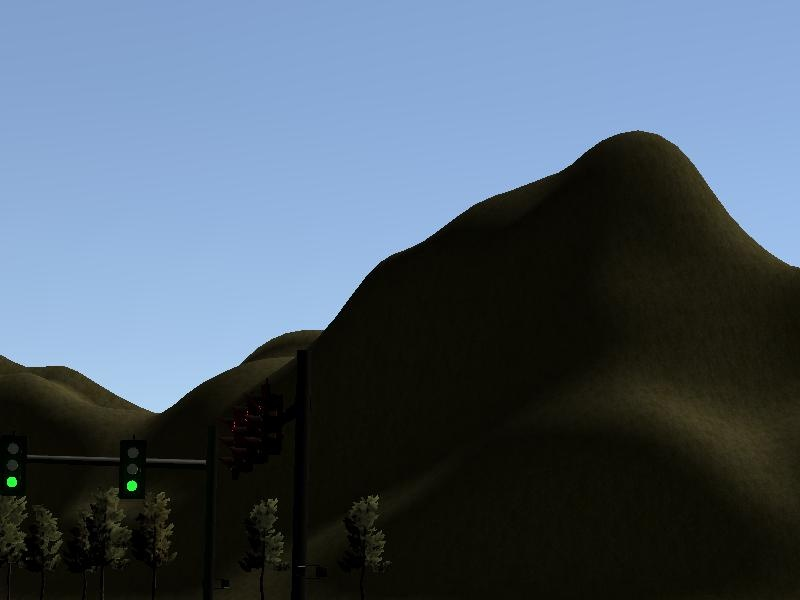GREEN: (121, 443, 148, 498), (2, 439, 24, 498)
